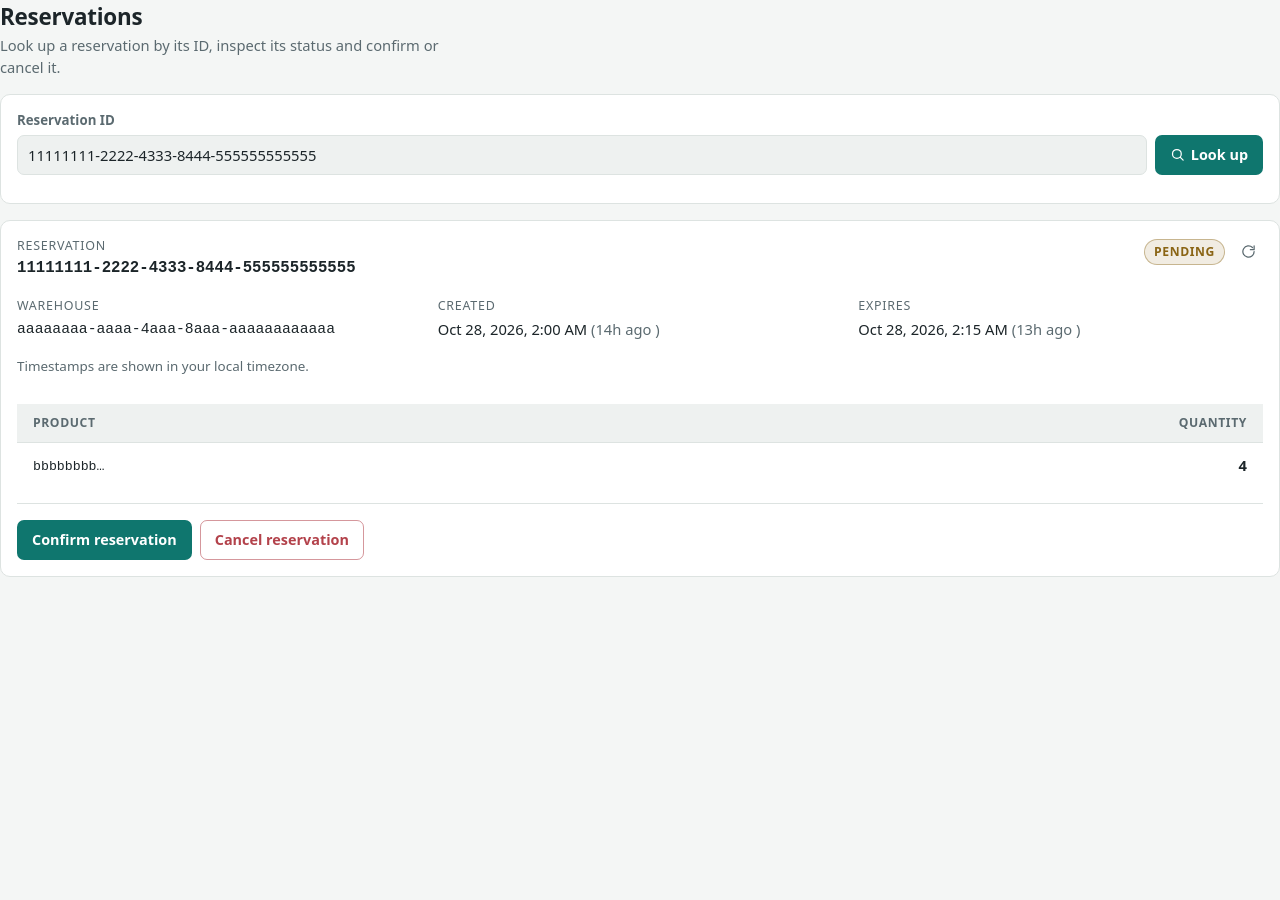
Test: ReservationsPage › confirms a pending reservation behind the dialog and updates state
Click the button "Confirm reservation" at (104, 540), box x1=17 y1=520 x2=192 y2=560
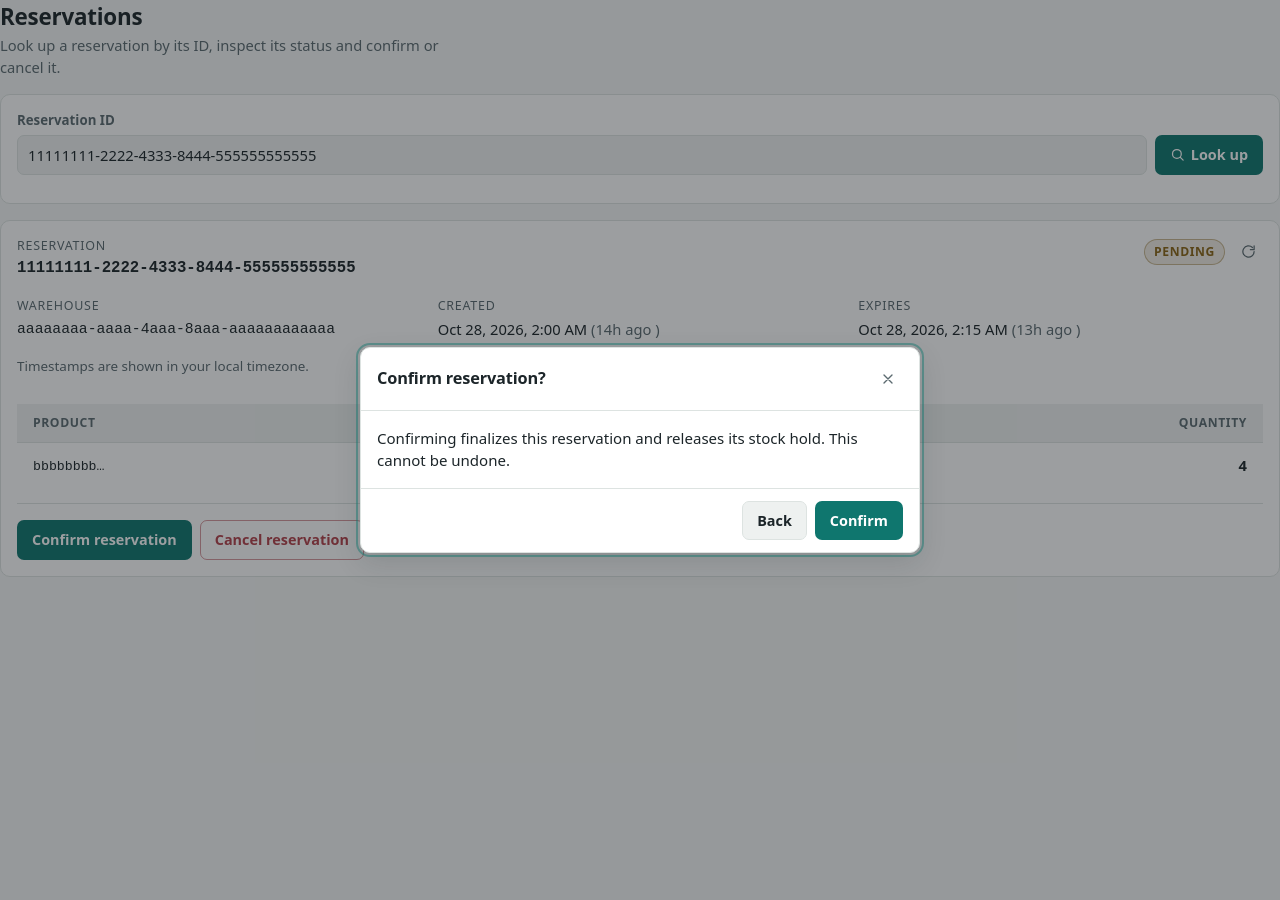
Now the text "releases its stock hold" is shown, box x1=377 y1=428 x2=858 y2=470
Click the button "Confirm" at (859, 521), box x1=815 y1=501 x2=903 y2=540
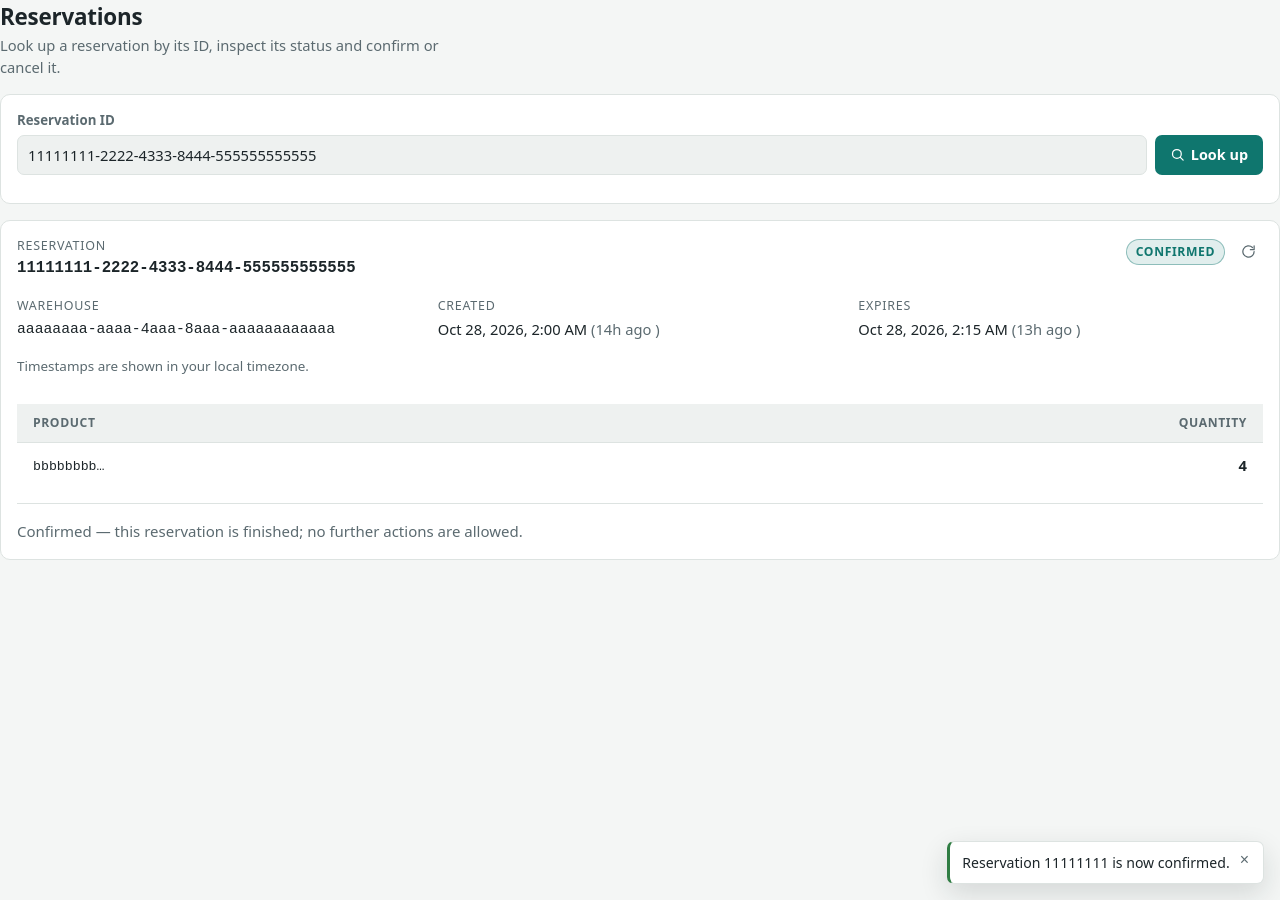
Now the text "confirmed" is shown, box x1=1126 y1=239 x2=1225 y2=265
Now the button "Confirm reservation" is gone
Now the text "Reservation 11111111 is now confirmed." is shown, box x1=962 y1=852 x2=1230 y2=873
